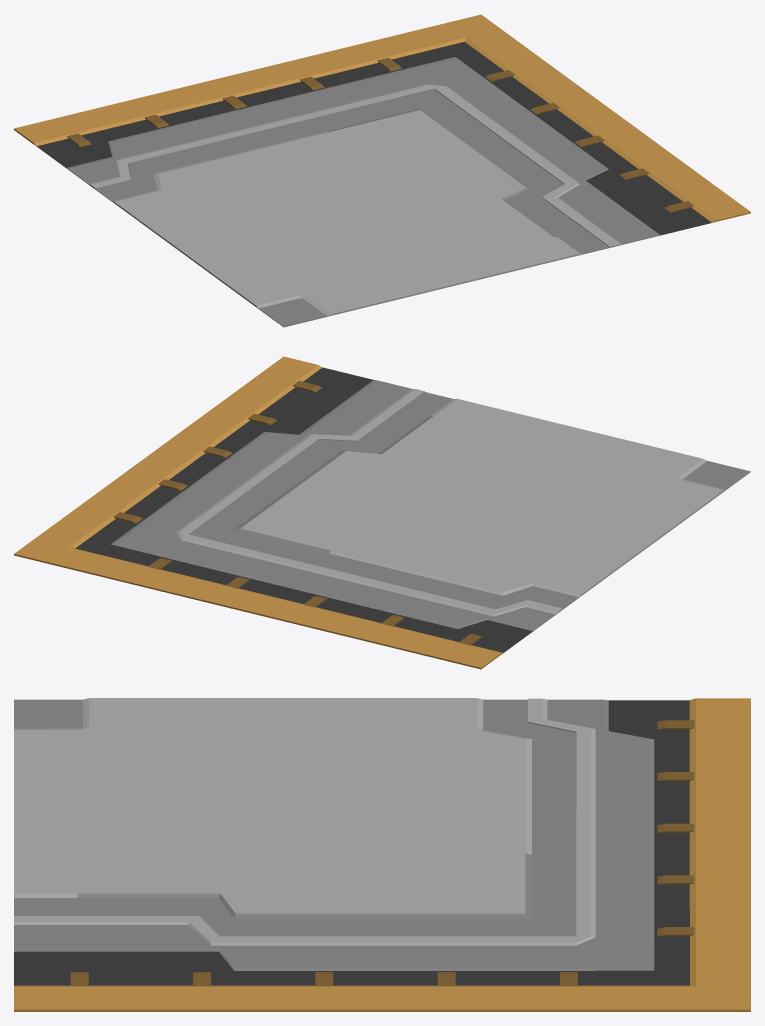
File: FloorInnerCorner.fbx
The picture shows the model from 3 angles, top to bottom: view 1: azimuth 30°, elevation 25°; view 2: azimuth 150°, elevation 25°; view 3: azimuth 270°, elevation 25°; orthographic projection. The views are drawn at different scales.
Parts seen in each view (by area): view 1: FloorTile_Corner; view 2: FloorTile_Corner; view 3: FloorTile_Corner.
Boxes of the visible parts, x1,y1,x2,y2 form: FloorTile_Corner: (14, 14, 750, 327); FloorTile_Corner: (14, 356, 750, 669); FloorTile_Corner: (14, 698, 750, 1011).
Bounding box in the file's own units: 2 × 0.01 × 2.
